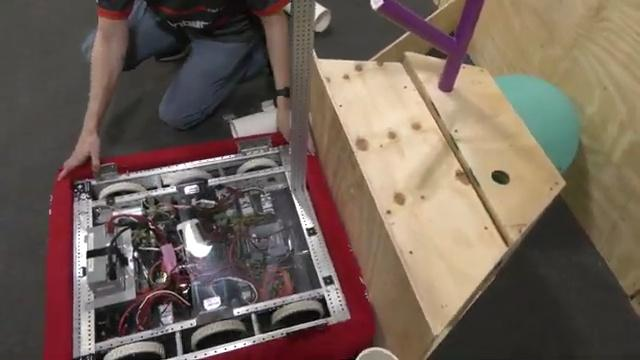CORAL: (229, 107, 297, 140)
